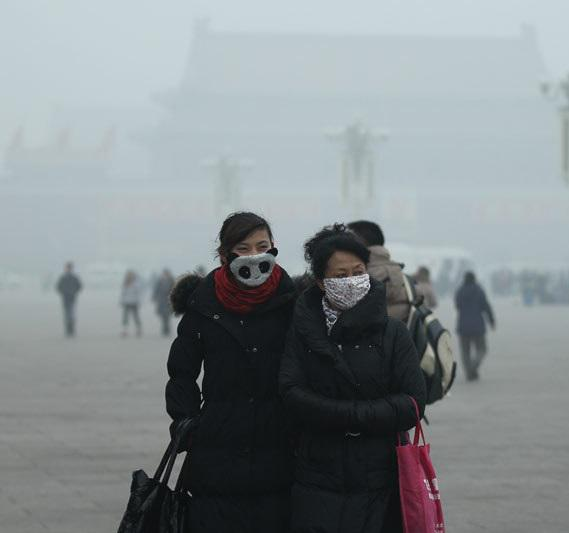OK: (228, 230, 276, 285), (326, 261, 372, 307)
